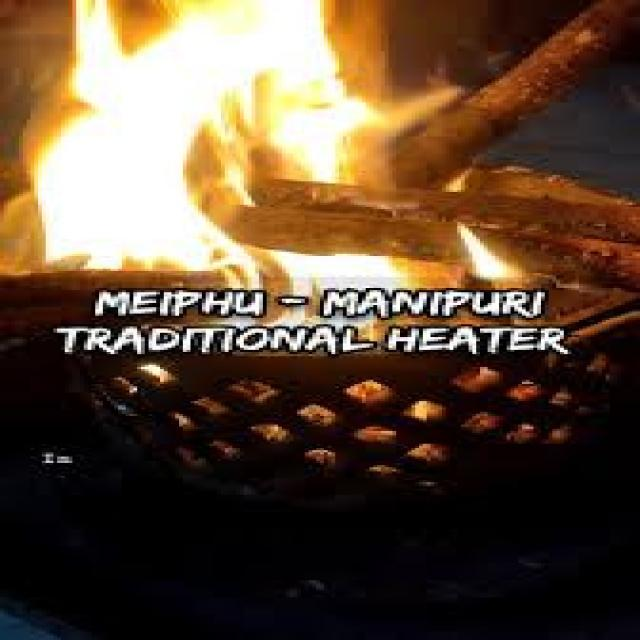fire: (21, 0, 524, 288)
